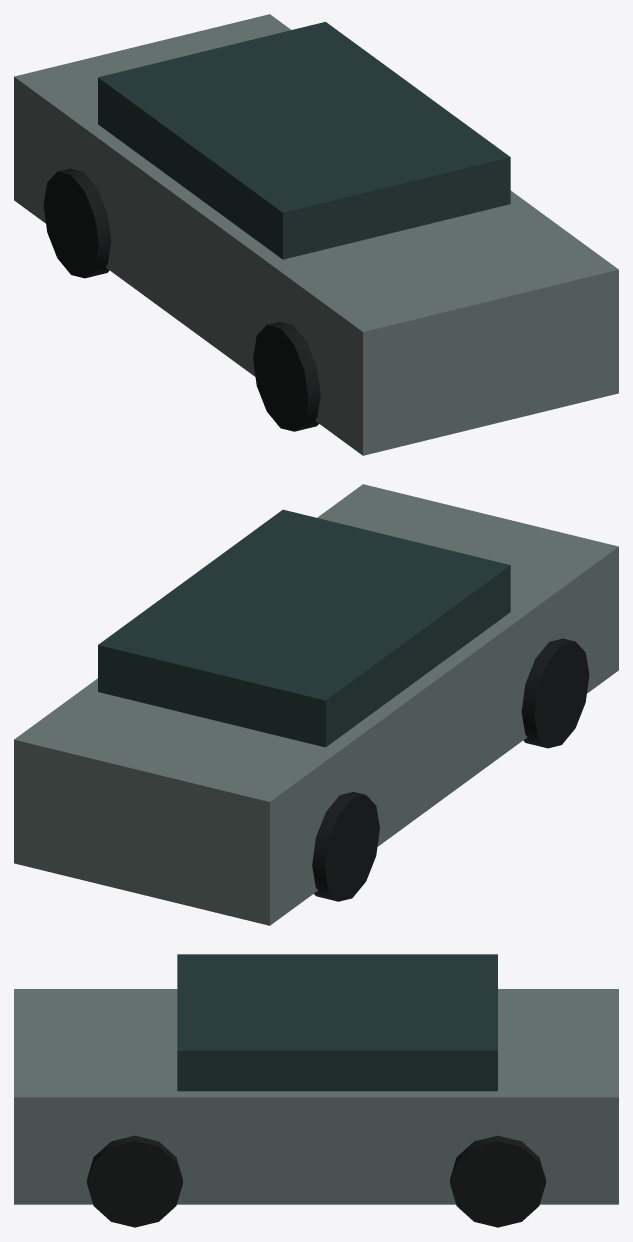
Rendered from car-city.glb.
3 views of the same model, one above another, from view 1: azimuth 30°, elevation 25°; view 2: azimuth 150°, elevation 25°; view 3: azimuth 270°, elevation 25° (orthographic). The views are drawn at different scales.
Visible parts, largest first — view 1: car-city; view 2: car-city; view 3: car-city.
Part boxes in pixels (x1,y1,x2,y2): car-city: (14,14,618,455); car-city: (14,484,618,925); car-city: (14,954,618,1227).
Bounding box in the file's own units: 2 × 1.3 × 4.3.
